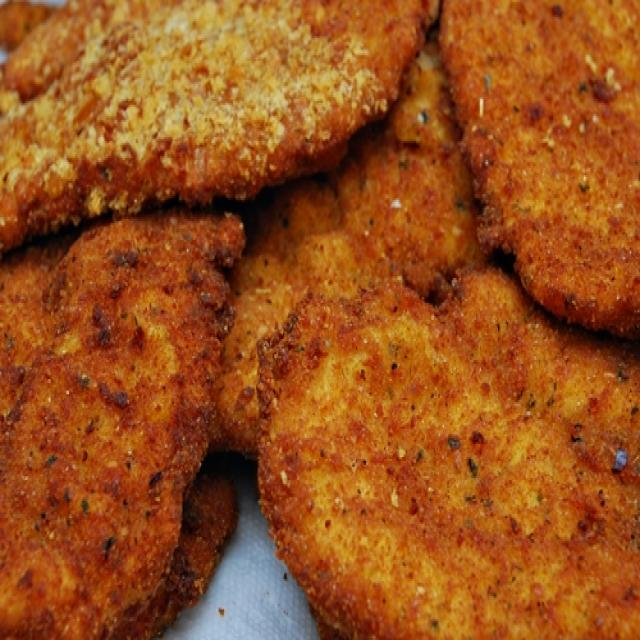鸡肉料理 含炸鸡: (8, 15, 613, 610)
